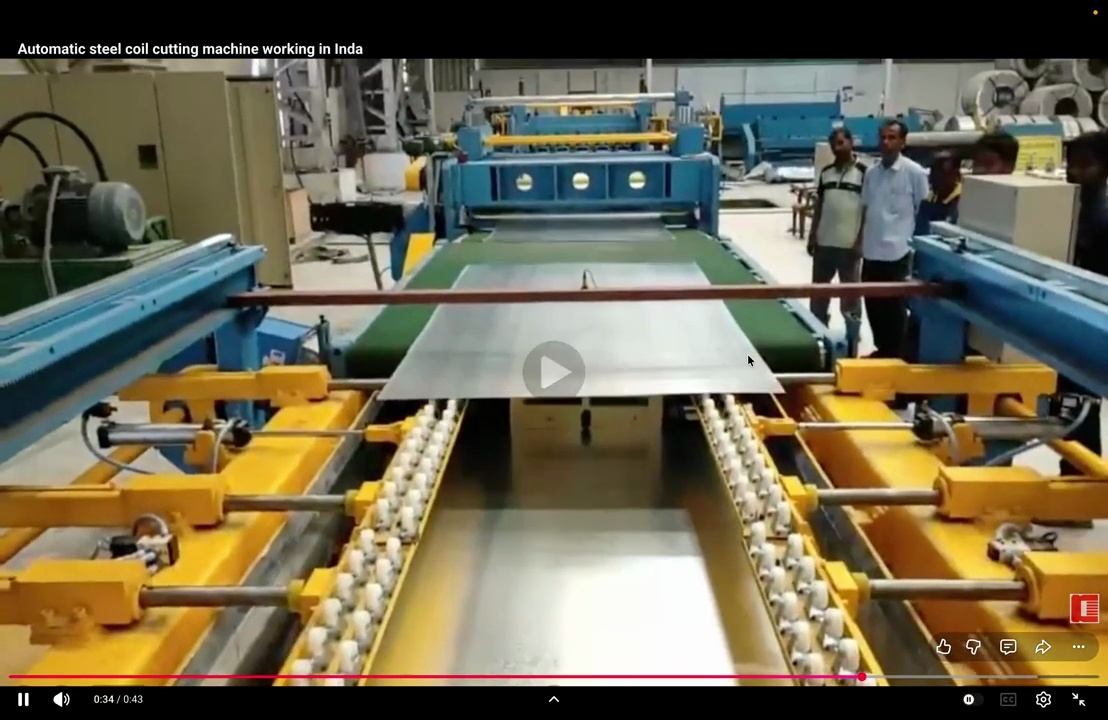steel plate: (380, 301, 782, 399), (488, 217, 672, 242)
